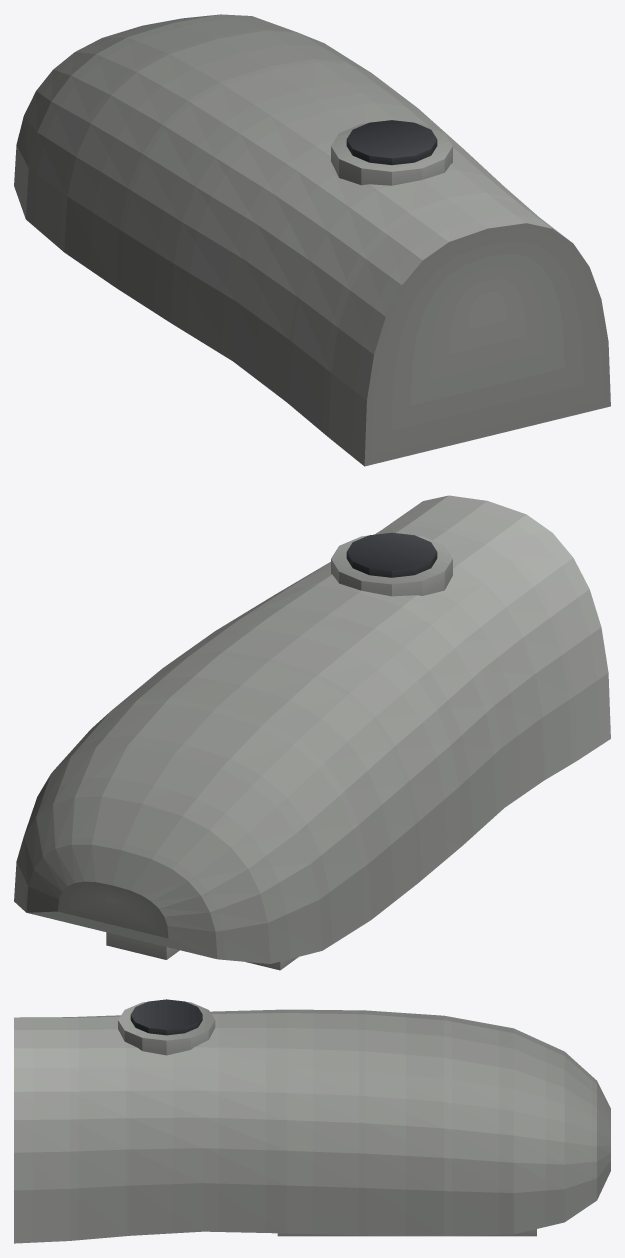
Rendered from streetlight_gem250acunp.obj.
The picture shows the model from 3 angles, top to bottom: view 1: azimuth 30°, elevation 25°; view 2: azimuth 150°, elevation 25°; view 3: azimuth 270°, elevation 25°; orthographic projection. The views are drawn at different scales.
Parts seen in each view (by area): view 1: fixture; view 2: fixture; view 3: fixture.
Part boxes in pixels (left/top/right/bottom): fixture: left=14, top=14, right=610, bottom=466; fixture: left=14, top=495, right=610, bottom=970; fixture: left=14, top=999, right=610, bottom=1243.
Size of the model in its own units: 0.3813 by 0.2697 by 0.8062.
